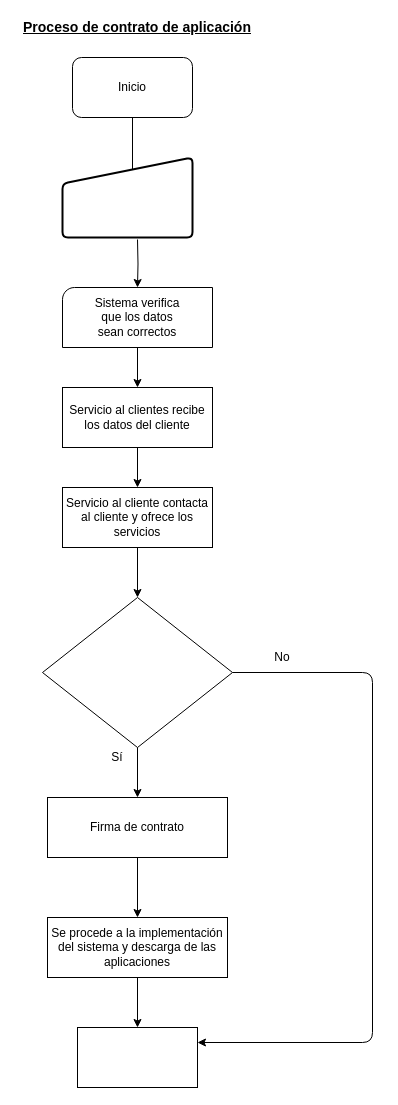
Some shapes in this 398 by 1105 pixel diagram are drawn without their labels. The centre of each missing label's shape, as x and y in pixels:
"Cliente llena formulario de contacto" belongs at point 127,197.
"Cliente toma decisión de contratar o no el servicio" belongs at point 137,672.
"Fin" belongs at point 137,1057.
